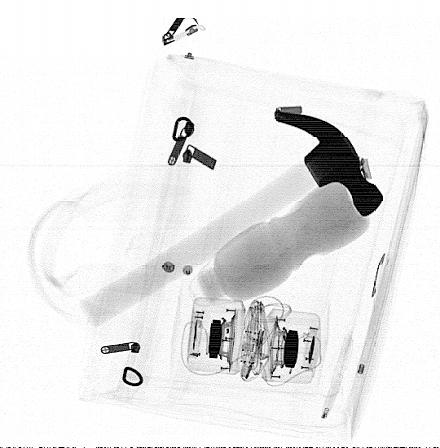Hammer: (77, 108, 385, 329)
